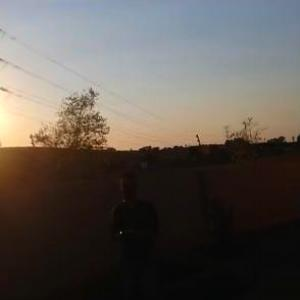follow: (110, 164, 168, 299)
